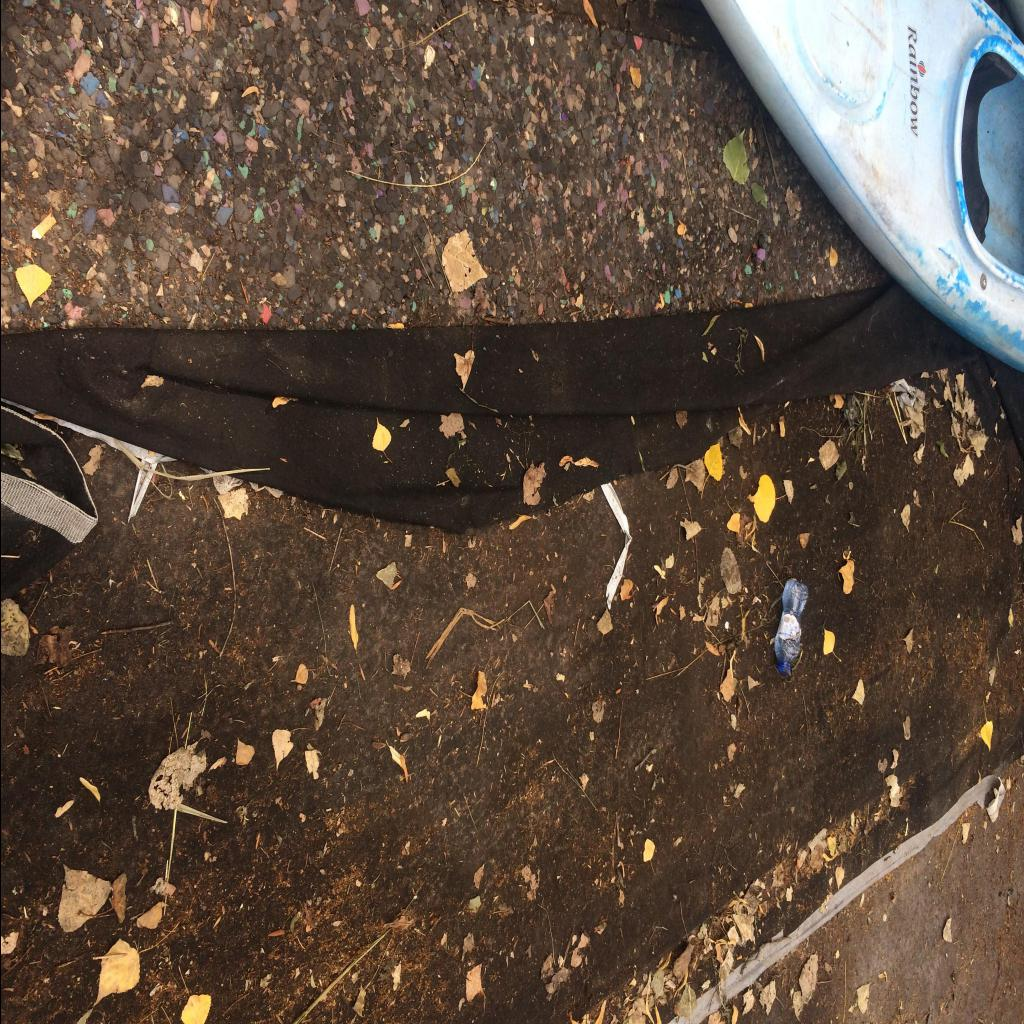Cigarette: (31, 214, 56, 240)
Clear plastic bottle: (773, 578, 807, 674)
Normal paper: (600, 482, 630, 610)
Plastic bottle cap: (777, 666, 789, 674)
